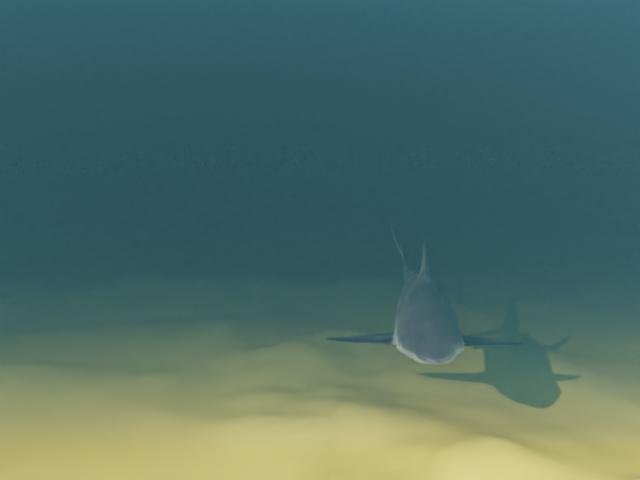Carribean Shark.001: (324, 215, 523, 365)
